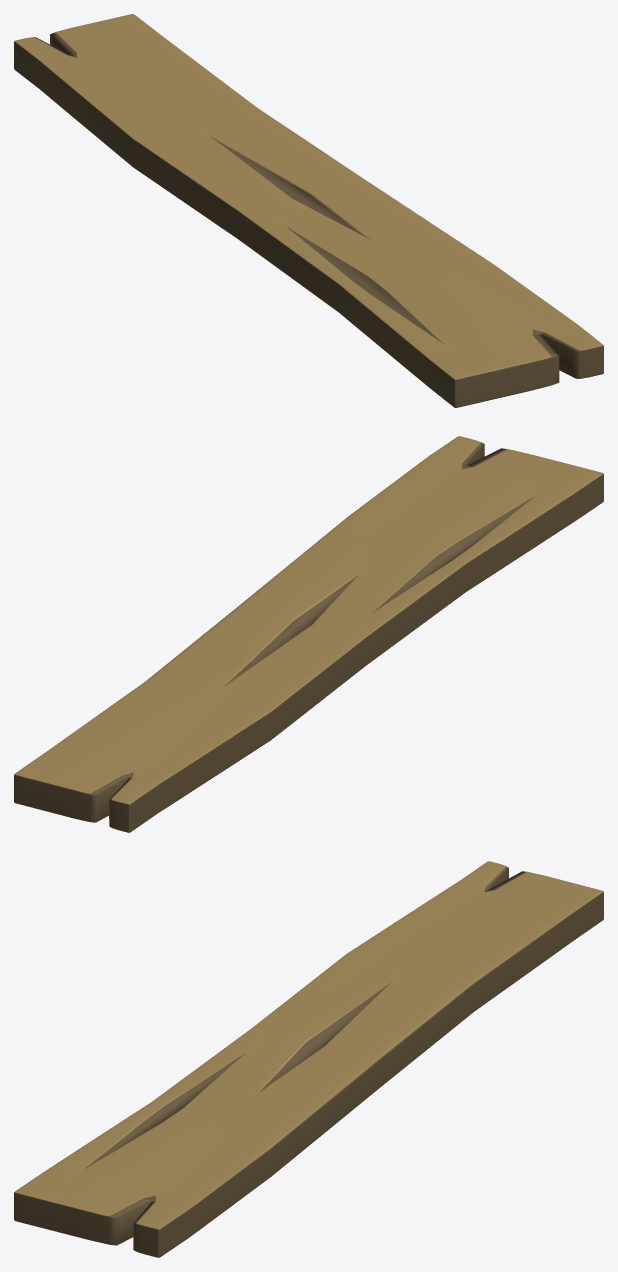
Rendered from Board.fbx.
3 renders of one model, top to bottom at view 1: azimuth 30°, elevation 25°; view 2: azimuth 150°, elevation 25°; view 3: azimuth 330°, elevation 25°, orthographic.
Visible parts, largest first — view 1: Board; view 2: Board; view 3: Board.
Part boxes in pixels (box(x1,y1,x2,y2)): Board: box(14, 14, 603, 407); Board: box(14, 436, 603, 832); Board: box(14, 861, 603, 1257).
Size of the model in its own units: 12.12 by 2.26 by 64.63.
